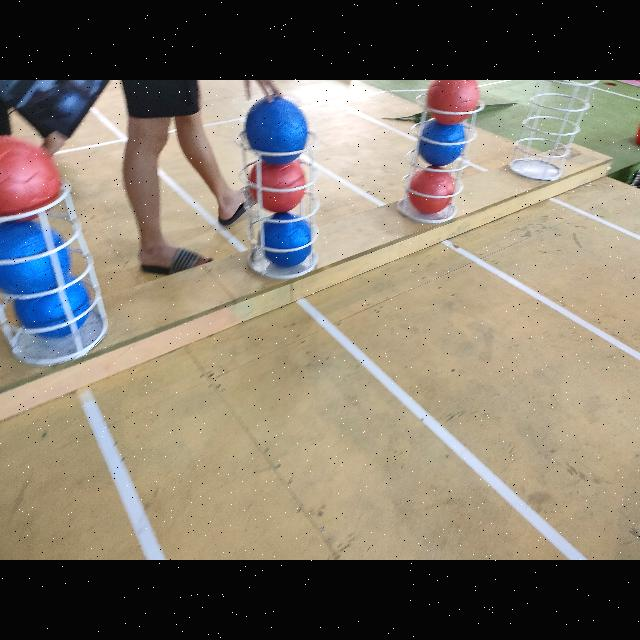B: (238, 94, 308, 164), (258, 212, 314, 266), (418, 119, 464, 168)
R: (248, 157, 306, 213), (408, 168, 456, 214)
